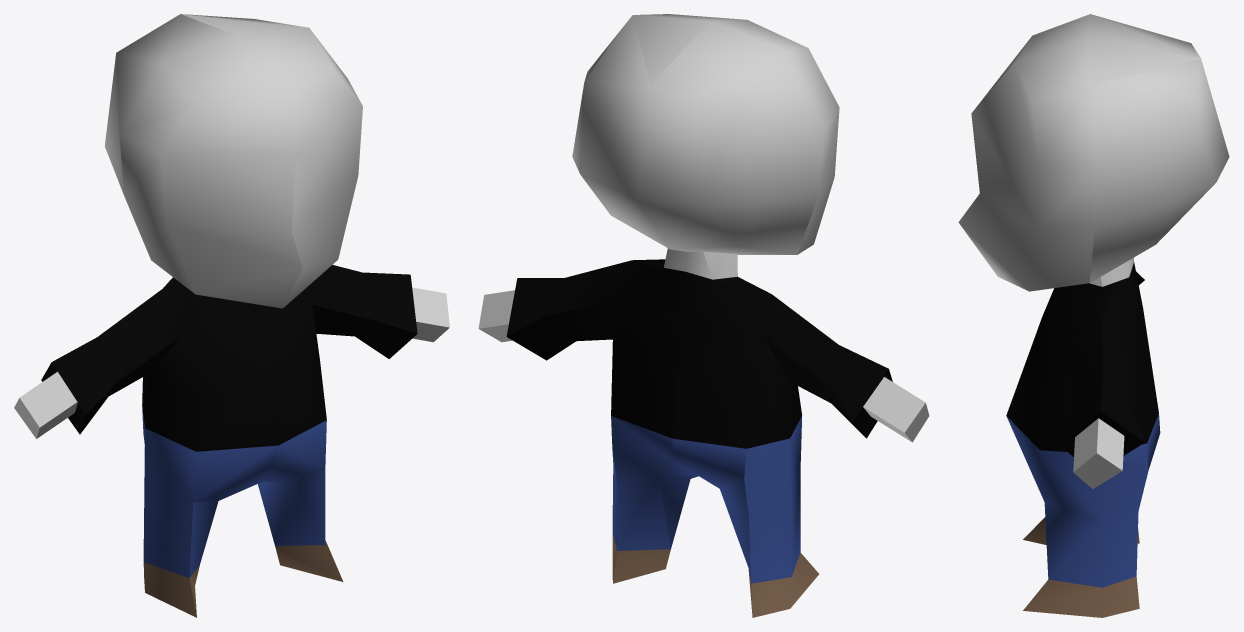
The model's file is Ryuto.fbx.
3 renders of one model, left to right at view 1: azimuth 30°, elevation 25°; view 2: azimuth 150°, elevation 25°; view 3: azimuth 270°, elevation 25°, orthographic. The views are drawn at different scales.
Parts seen in each view (by area): view 1: obj2; view 2: obj2; view 3: obj2.
Boxes of the visible parts, x1,y1,x2,y2 form: obj2: [14, 14, 449, 617]; obj2: [478, 14, 929, 617]; obj2: [958, 14, 1229, 617].
Bounding box in the file's own units: 119 × 144 × 65.95.
